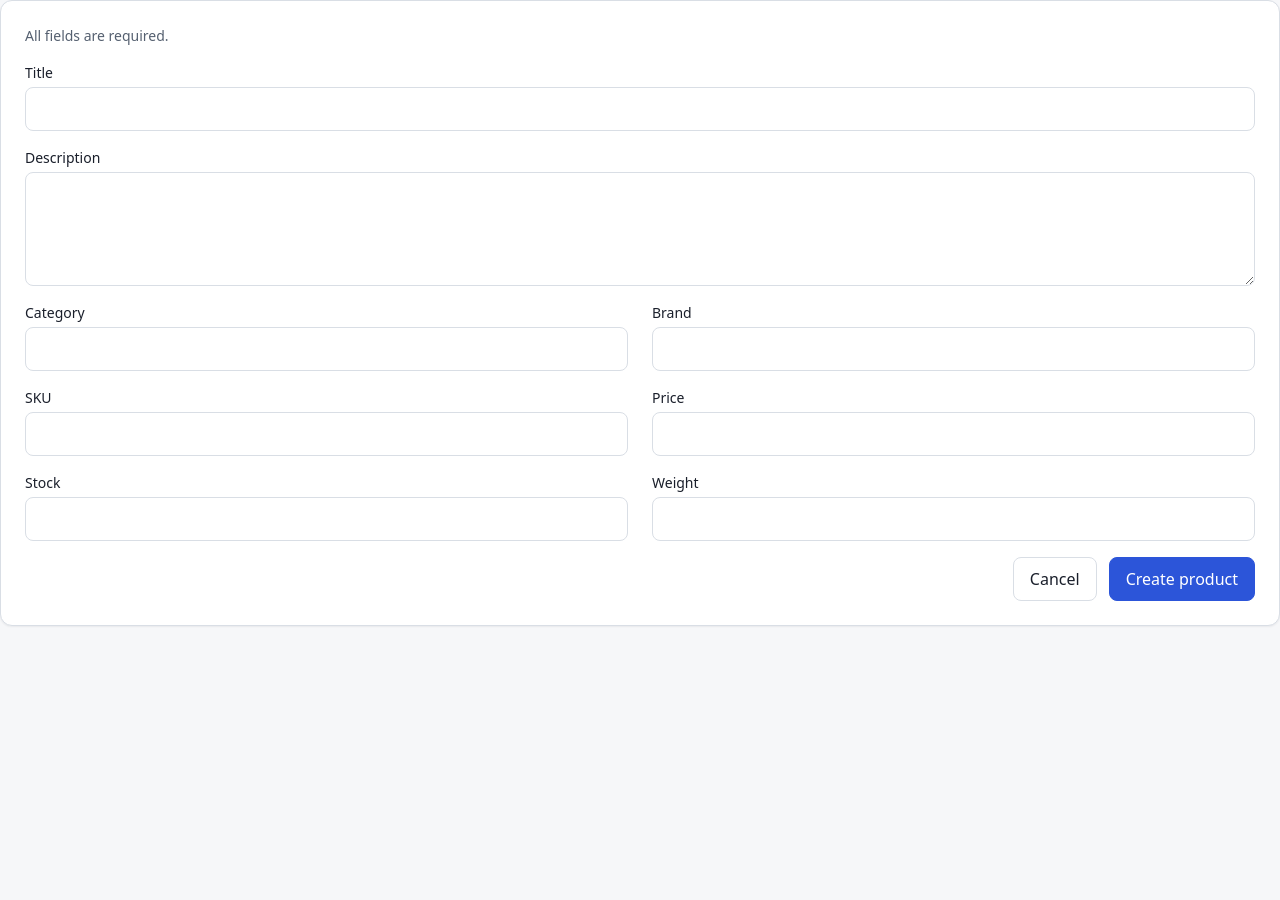
it: ProductForm › client validation › clears the message of a field as soon as the user edits it
The image size is (1280, 900).
Click the button "Create product": (1182, 579) [1109,557,1255,601]
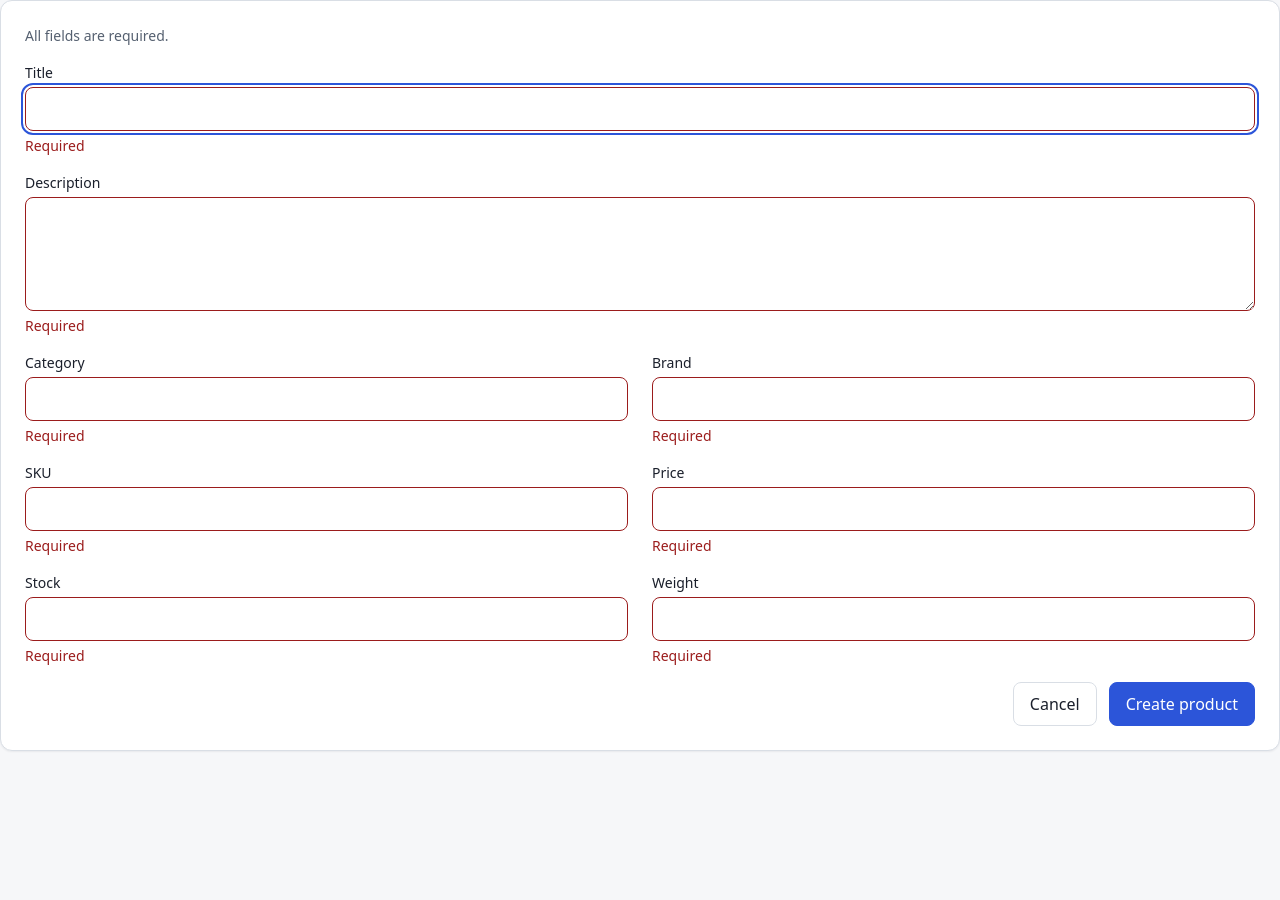
In the field labelled "Title": (640, 109) [25,87,1255,131], type "Flux"
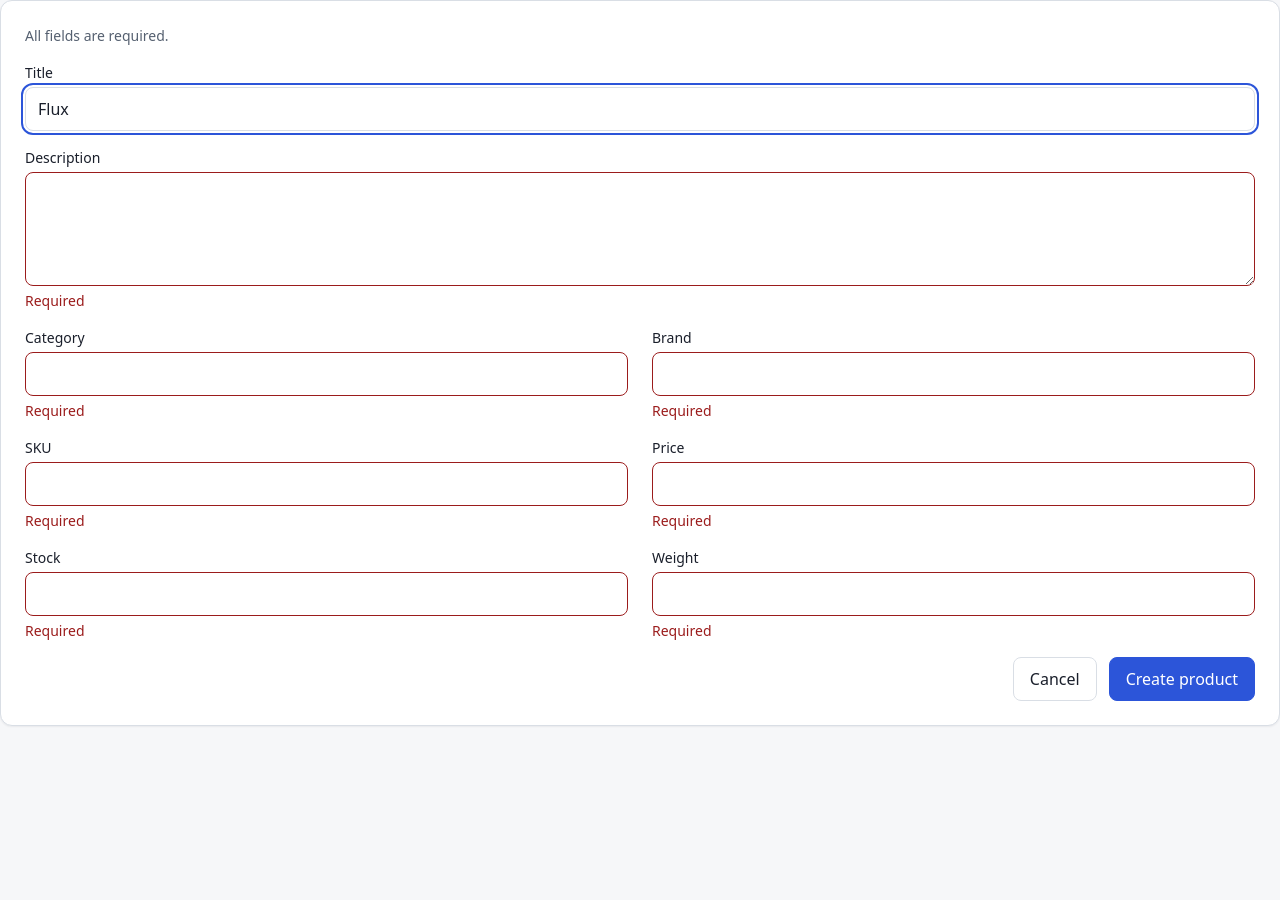
Now the text "Required" is shown 7 times
